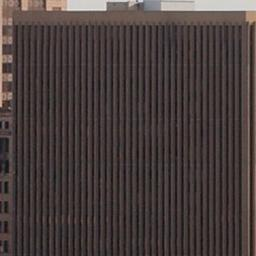building: (12, 10, 248, 255)
